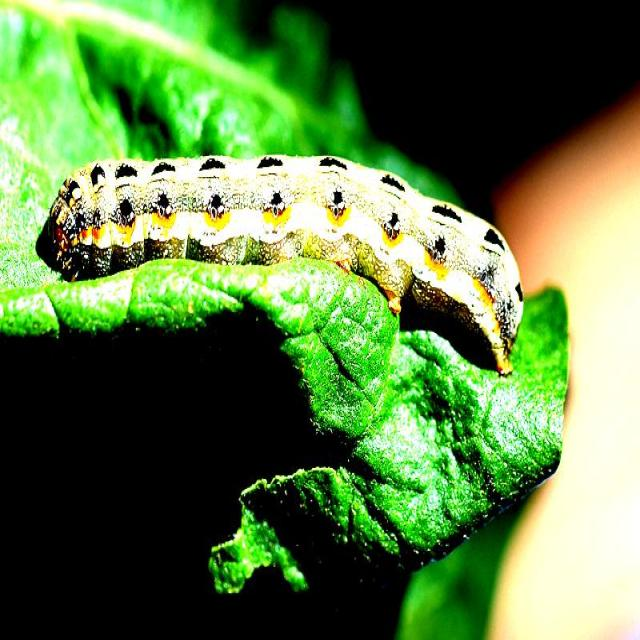armyworm: (44, 151, 525, 378)
